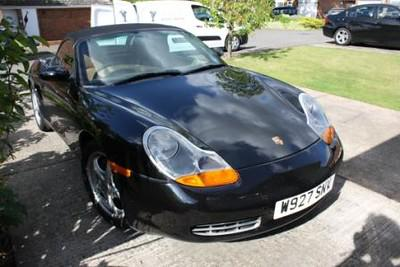bonnet-dent: (231, 113, 302, 155)
